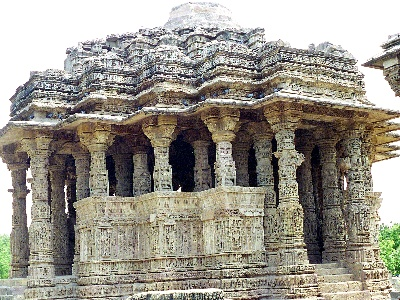mandapa: (14, 75, 382, 237)
